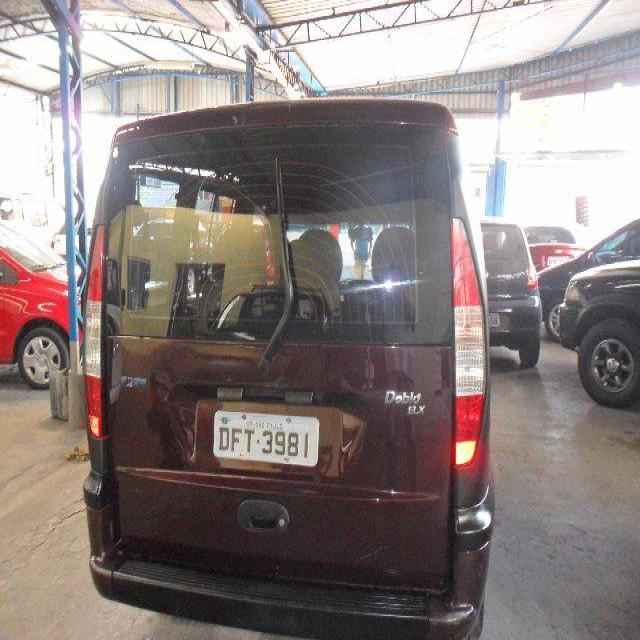Placa: (211, 404, 323, 469)
